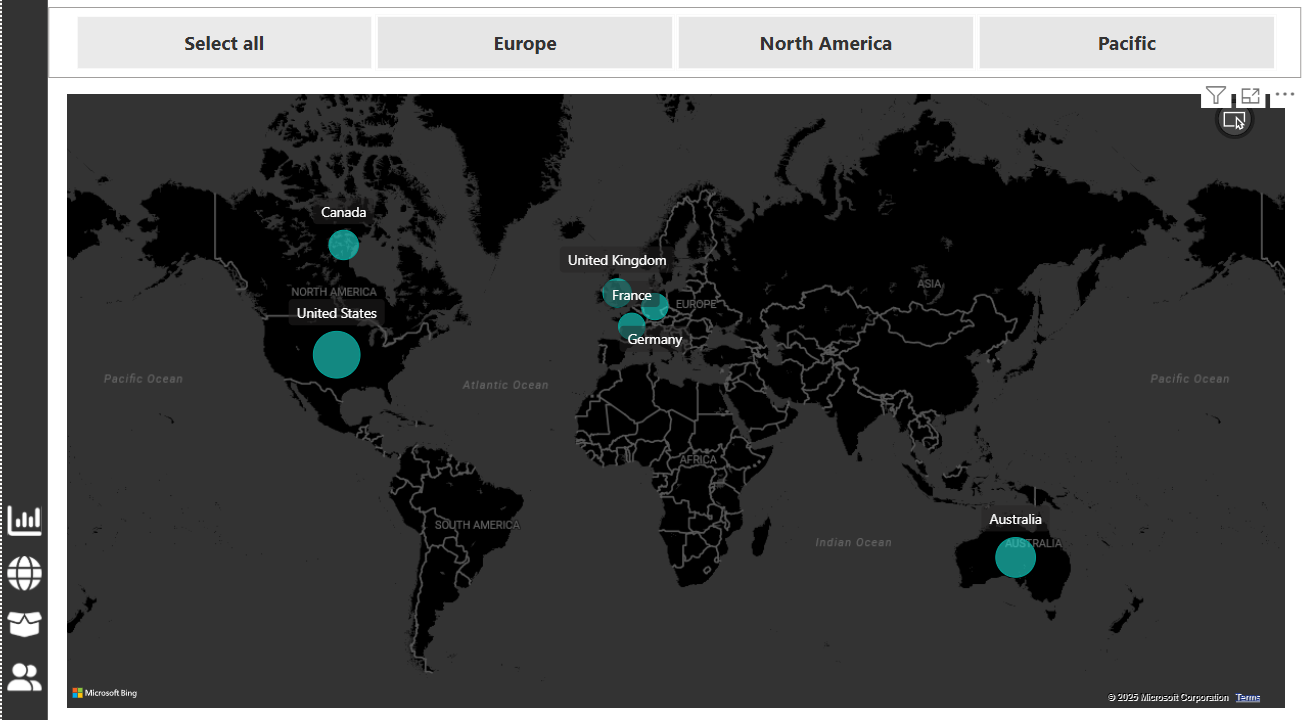

What the dashboard file says about the page in this screenshot:
{"tool":"powerbi","page":{"name":"Map","canvas":[1280,720],"ordinal":1},"visuals":[{"type":"shape","box":[0,0,45,720.2],"z":0},{"type":"actionButton","box":[0.9,496.5,45.2,41.6],"z":1000,"group":"g1"},{"type":"map","fields":{"Category":["Territory Lookup.Country"],"Size":["Measure Table.Total Orders"]},"box":[58.7,95.4,1202,610.2],"z":1000},{"type":"slicer","fields":{"Values":["Territory Lookup.Continent"]},"box":[45.2,14.7,1225.3,69.7],"z":2000},{"type":"actionButton","box":[0.9,598.4,45.2,41.6],"z":2000,"group":"g1"},{"type":"actionButton","box":[0.9,649.4,45.2,41.6],"z":3000,"group":"g1"},{"type":"group","id":"g1","title":"Navigation Buttons","box":[0.9,496.5,45.2,194.4],"z":3000},{"type":"actionButton","box":[0.9,547.5,45.2,41.6],"z":4000,"group":"g1"}]}

Visuals, with their boxes on the page's 1280x720 design canvas (x1, y1, x2, y2). These are canvas units, not pixel positions in the 1307x720 screenshot, which may show the page scaled, cropped or inside an application window:
shape: x1=0, y1=0, x2=45, y2=720
actionButton: x1=1, y1=496, x2=46, y2=538
map - Territory Lookup.Country x Measure Table.Total Orders: x1=59, y1=95, x2=1261, y2=706
slicer - Territory Lookup.Continent: x1=45, y1=15, x2=1270, y2=84
actionButton: x1=1, y1=598, x2=46, y2=640
actionButton: x1=1, y1=649, x2=46, y2=691
"Navigation Buttons" group: x1=1, y1=496, x2=46, y2=691
actionButton: x1=1, y1=548, x2=46, y2=589
